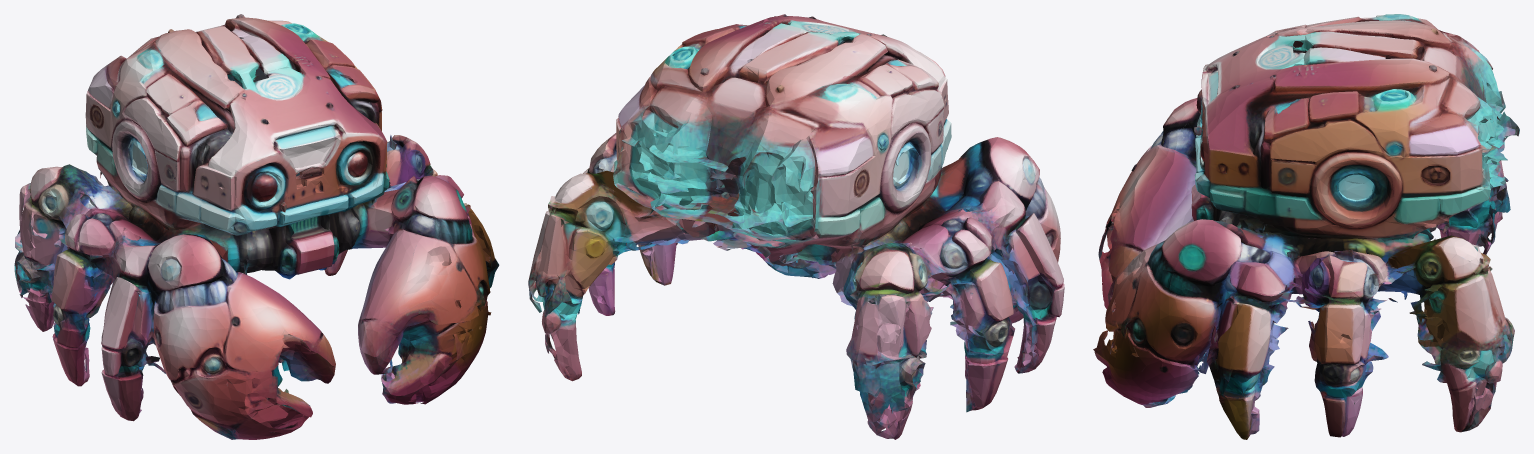
The model's file is typical_creature_robot_crab_easyf3c_s25.glb.
The picture shows the model from 3 angles, left to right: view 1: azimuth 30°, elevation 25°; view 2: azimuth 150°, elevation 25°; view 3: azimuth 270°, elevation 25°; orthographic projection. The views are drawn at different scales.
Visible parts, largest first — view 1: world; view 2: world; view 3: world.
Boxes of the visible parts, x1,y1,x2,y2 form: world: (14, 14, 499, 439); world: (528, 14, 1064, 439); world: (1093, 14, 1519, 439).
Bounding box in the file's own units: 0.9863 × 0.7229 × 0.8763.
1 material, 1 textured.
